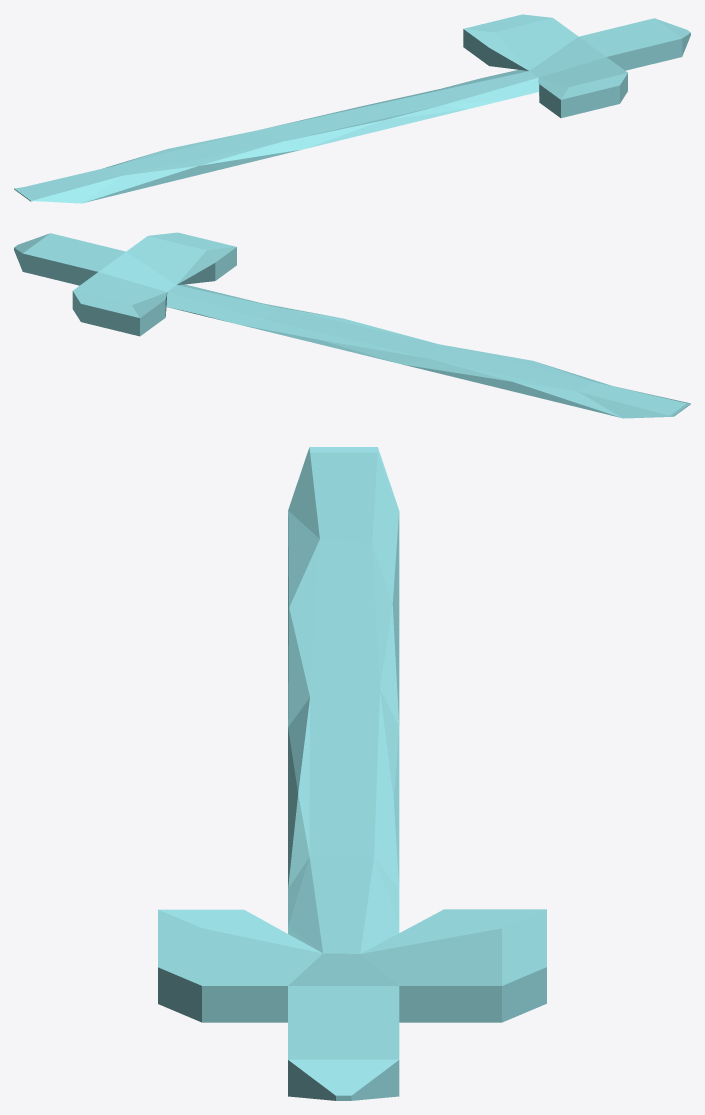
The picture shows the model from 3 angles, top to bottom: view 1: azimuth 30°, elevation 25°; view 2: azimuth 150°, elevation 25°; view 3: azimuth 270°, elevation 25°; orthographic projection. The views are drawn at different scales.
Parts seen in each view (by area): view 1: Cube; view 2: Cube; view 3: Cube.
Boxes of the visible parts, x1,y1,x2,y2 form: Cube: (14,14,690,203); Cube: (14,232,690,418); Cube: (158,447,546,1100).
Size of the model in its own units: 27.7 by 0.7325 by 7.
